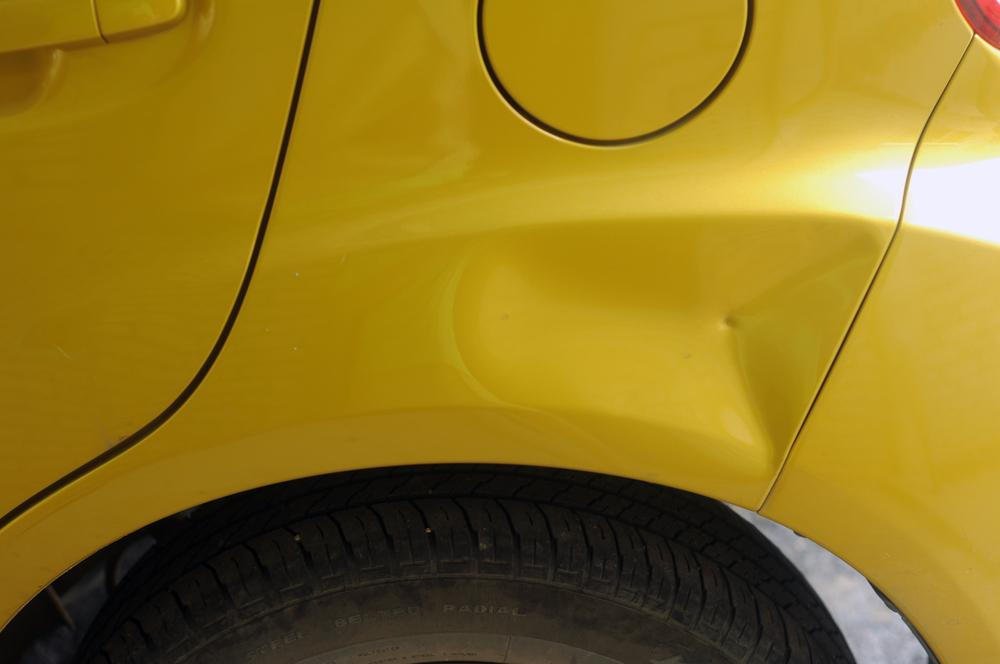dent: (465, 215, 877, 486)
